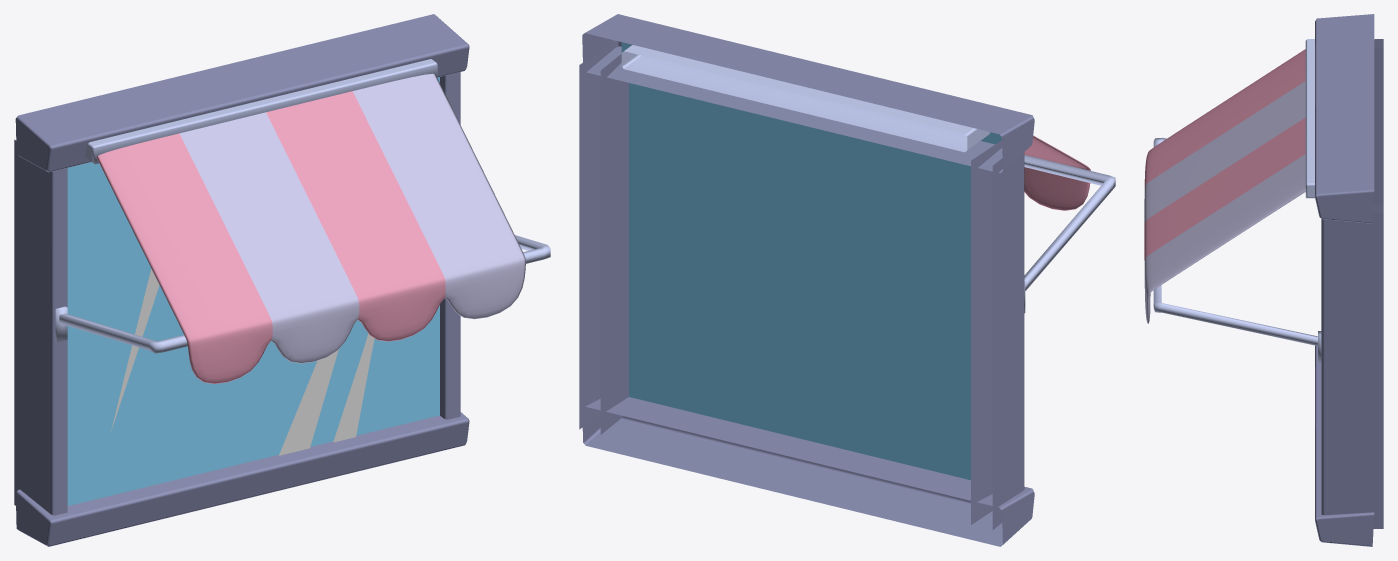
File: WindowCanopy.fbx
3 renders of one model, left to right at view 1: azimuth 30°, elevation 25°; view 2: azimuth 150°, elevation 25°; view 3: azimuth 270°, elevation 25°, orthographic. The views are drawn at different scales.
Parts seen in each view (by area): view 1: WindowMesh, Canopy; view 2: WindowMesh, Canopy; view 3: WindowMesh, Canopy.
Part boxes in pixels (box(x1,y1,x2,y2)): WindowMesh: box(14, 14, 550, 546); Canopy: box(96, 73, 525, 383); WindowMesh: box(579, 14, 1115, 546); Canopy: box(1024, 135, 1090, 210); WindowMesh: box(1153, 14, 1383, 546); Canopy: box(1144, 49, 1305, 323).
Bounding box in the file's own units: 6.82 × 6.41 × 3.89.
